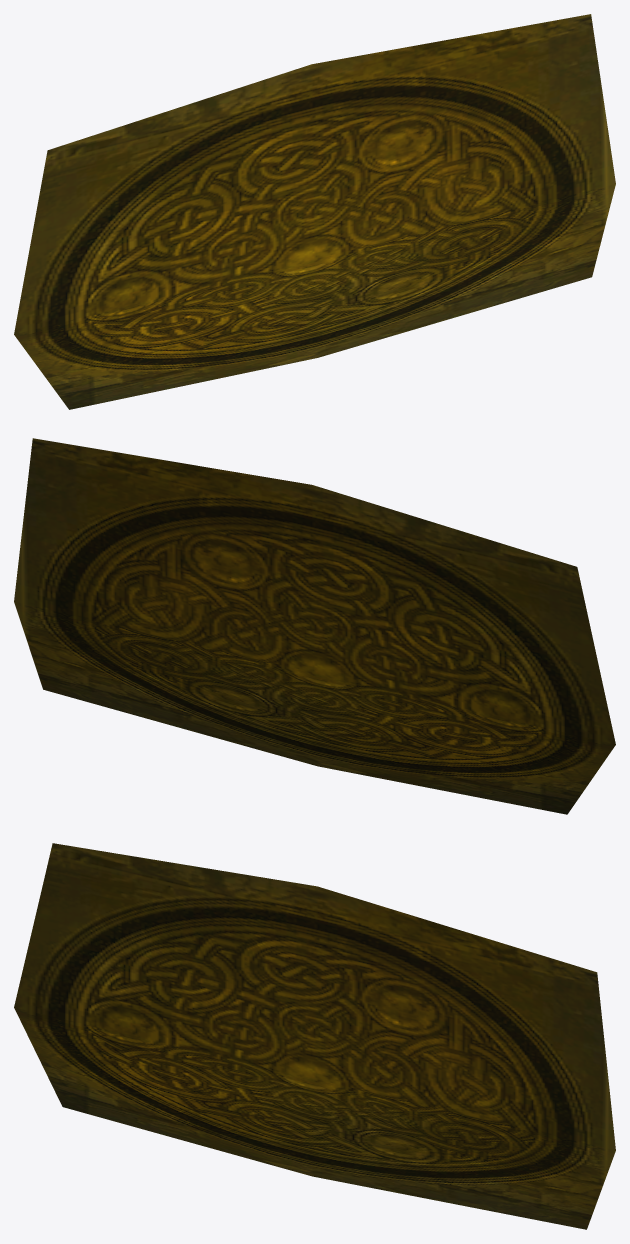
Rendered from CH09_SMAUG_PLAYSURFACE_LAIR85.fbx.
The picture shows the model from 3 angles, top to bottom: view 1: azimuth 30°, elevation 25°; view 2: azimuth 150°, elevation 25°; view 3: azimuth 330°, elevation 25°; orthographic projection.
Parts seen in each view (by area): view 1: CH09_SMAUG_PLAYSURFACE_LAIR85; view 2: CH09_SMAUG_PLAYSURFACE_LAIR85; view 3: CH09_SMAUG_PLAYSURFACE_LAIR85.
Boxes of the visible parts, x1,y1,x2,y2 form: CH09_SMAUG_PLAYSURFACE_LAIR85: (14, 14, 615, 409); CH09_SMAUG_PLAYSURFACE_LAIR85: (14, 438, 615, 814); CH09_SMAUG_PLAYSURFACE_LAIR85: (14, 843, 615, 1229).
Size of the model in its own units: 106415 by 48580 by 3005.
1 material, 1 textured.
